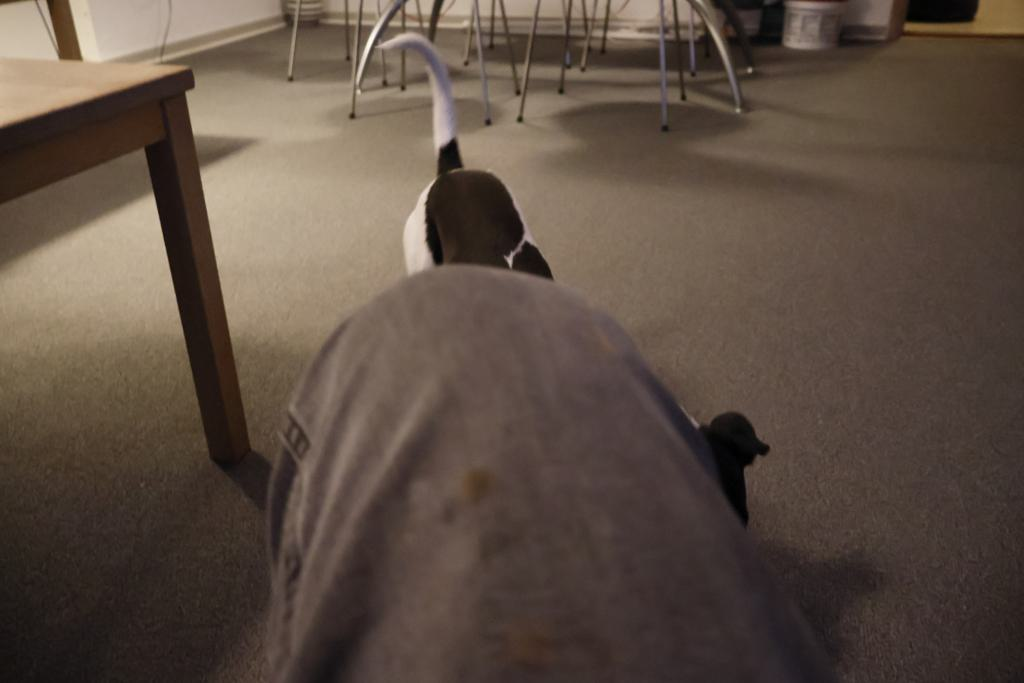Dog: (364, 25, 779, 542)
Humanoid: (228, 256, 856, 683)
